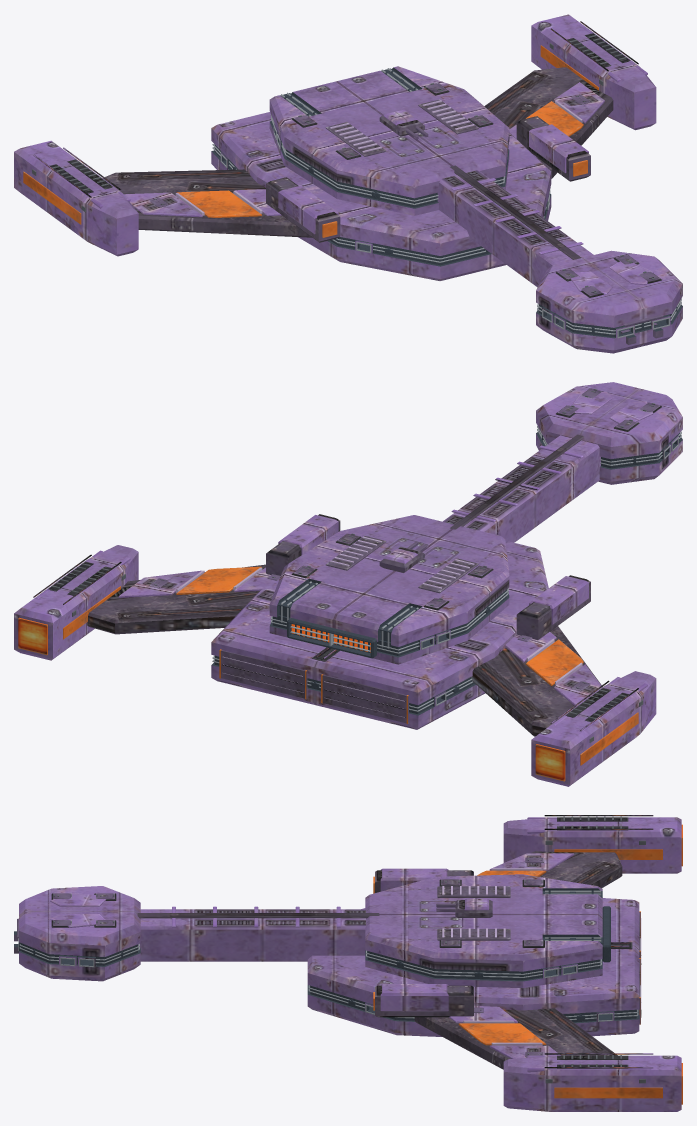
The model's file is vark.glb.
The picture shows the model from 3 angles, top to bottom: view 1: azimuth 30°, elevation 25°; view 2: azimuth 150°, elevation 25°; view 3: azimuth 270°, elevation 25°; orthographic projection. The views are drawn at different scales.
Visible parts, largest first — view 1: vark_revised_hull; view 2: vark_revised_hull; view 3: vark_revised_hull.
Boxes of the visible parts, x1=… form: vark_revised_hull: x1=14, y1=14, x2=682, y2=353; vark_revised_hull: x1=14, y1=382, x2=682, y2=786; vark_revised_hull: x1=14, y1=815, x2=682, y2=1111.
Size of the model in its own units: 61.51 by 10.62 by 67.63.
4 materials, 2 textured.
